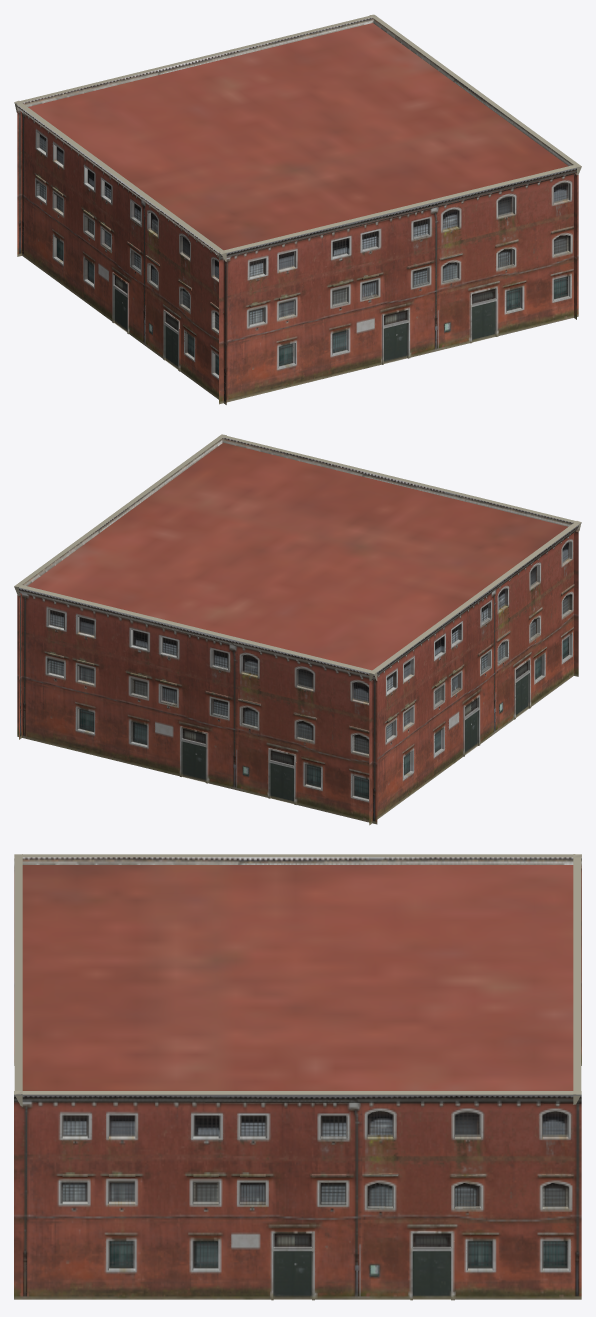
3 views of the same model, one above another, from view 1: azimuth 30°, elevation 25°; view 2: azimuth 150°, elevation 25°; view 3: azimuth 270°, elevation 25° (orthographic). The views are drawn at different scales.
Parts seen in each view (by area): view 1: Plane_0; view 2: Plane_0; view 3: Plane_0.
Boxes of the visible parts, box(x1,y1,x2,y2) form: Plane_0: box(14, 14, 581, 404); Plane_0: box(14, 434, 581, 825); Plane_0: box(14, 854, 581, 1300).
Bounding box in the file's own units: 2.47 × 1 × 2.46.
Materials: 2 (2 with a texture image).
